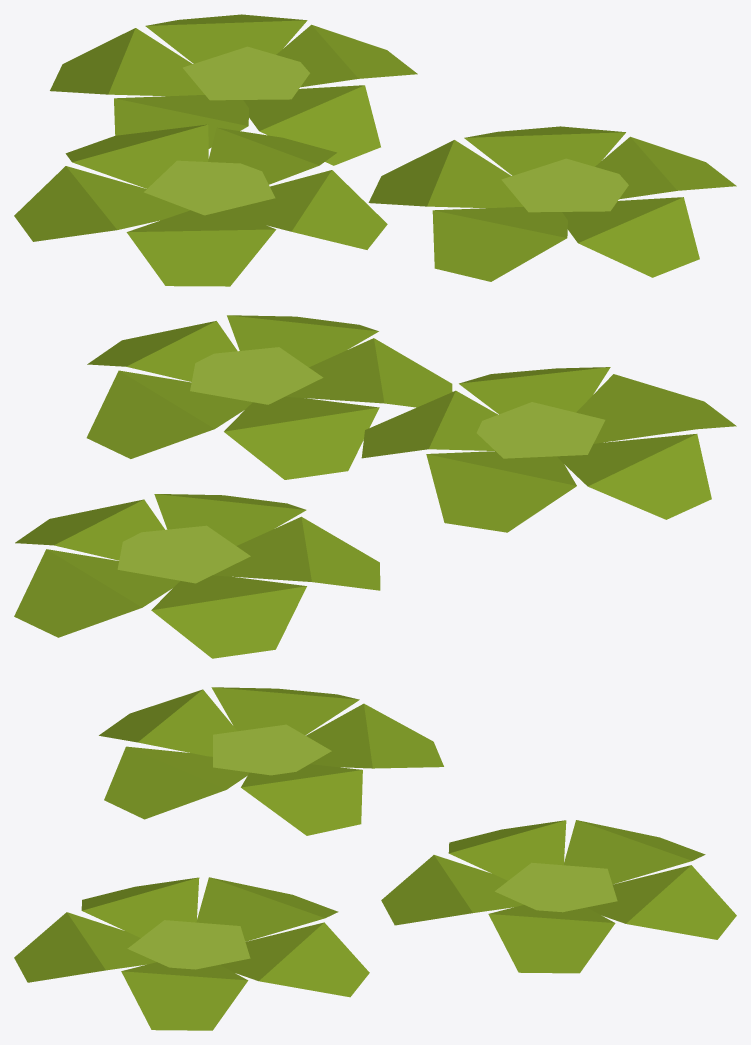
The model's file is flowers01.fbx.
3 renders of one model, top to bottom at view 1: azimuth 30°, elevation 25°; view 2: azimuth 150°, elevation 25°; view 3: azimuth 270°, elevation 25°, orthographic. The views are drawn at different scales.
Parts seen in each view (by area): view 1: Mesh_Flowers01; view 2: Mesh_Flowers01; view 3: Mesh_Flowers01.
Part boxes in pixels (x1,y1,x2,y2): Mesh_Flowers01: (14,14,736,286); Mesh_Flowers01: (14,315,736,658); Mesh_Flowers01: (14,687,736,1030).
Bounding box in the file's own units: 1.28 × 1.33 × 0.1458.
